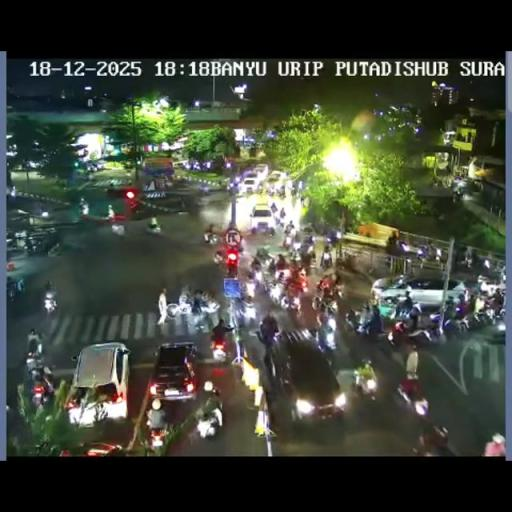Car: (273, 336, 345, 426), (66, 342, 130, 427), (373, 276, 467, 314), (147, 342, 198, 403), (66, 440, 124, 455), (248, 200, 274, 232), (241, 176, 261, 194), (266, 170, 286, 186), (252, 164, 269, 178)
Motorcycle: (246, 238, 338, 322), (269, 196, 309, 246), (346, 306, 392, 342), (396, 374, 430, 418), (401, 306, 442, 342), (27, 366, 55, 408), (416, 425, 453, 455), (195, 403, 222, 439), (273, 326, 317, 348), (232, 290, 258, 326), (146, 402, 167, 446), (351, 366, 378, 400), (436, 311, 466, 338), (311, 290, 340, 316), (315, 319, 337, 352), (190, 298, 211, 332), (166, 294, 195, 318), (208, 329, 230, 360), (256, 322, 279, 349), (242, 264, 262, 294), (280, 285, 301, 310), (471, 307, 495, 328), (453, 294, 474, 318), (25, 350, 45, 374), (485, 287, 504, 311), (290, 265, 307, 289), (224, 252, 238, 278), (43, 290, 58, 314), (275, 268, 290, 290), (202, 380, 220, 398), (316, 275, 332, 295), (414, 243, 431, 261), (319, 249, 333, 270), (460, 248, 474, 269), (330, 274, 342, 295), (202, 229, 218, 244), (391, 272, 407, 287), (326, 230, 340, 246), (48, 241, 62, 257), (6, 278, 17, 298), (213, 250, 225, 267), (25, 237, 37, 254), (304, 242, 315, 260), (256, 248, 270, 262), (301, 225, 315, 239), (110, 222, 125, 235), (282, 234, 294, 250), (146, 222, 162, 234), (396, 240, 410, 253), (274, 214, 286, 229), (227, 179, 239, 194), (266, 257, 277, 273), (452, 187, 462, 204), (198, 182, 210, 196), (78, 202, 89, 216), (292, 184, 302, 199), (434, 246, 442, 264), (234, 240, 244, 254), (284, 222, 294, 236), (292, 238, 302, 252), (277, 184, 285, 198), (17, 278, 25, 292), (270, 202, 278, 214), (10, 184, 16, 198), (267, 186, 275, 196), (86, 171, 94, 181), (109, 178, 116, 186)
